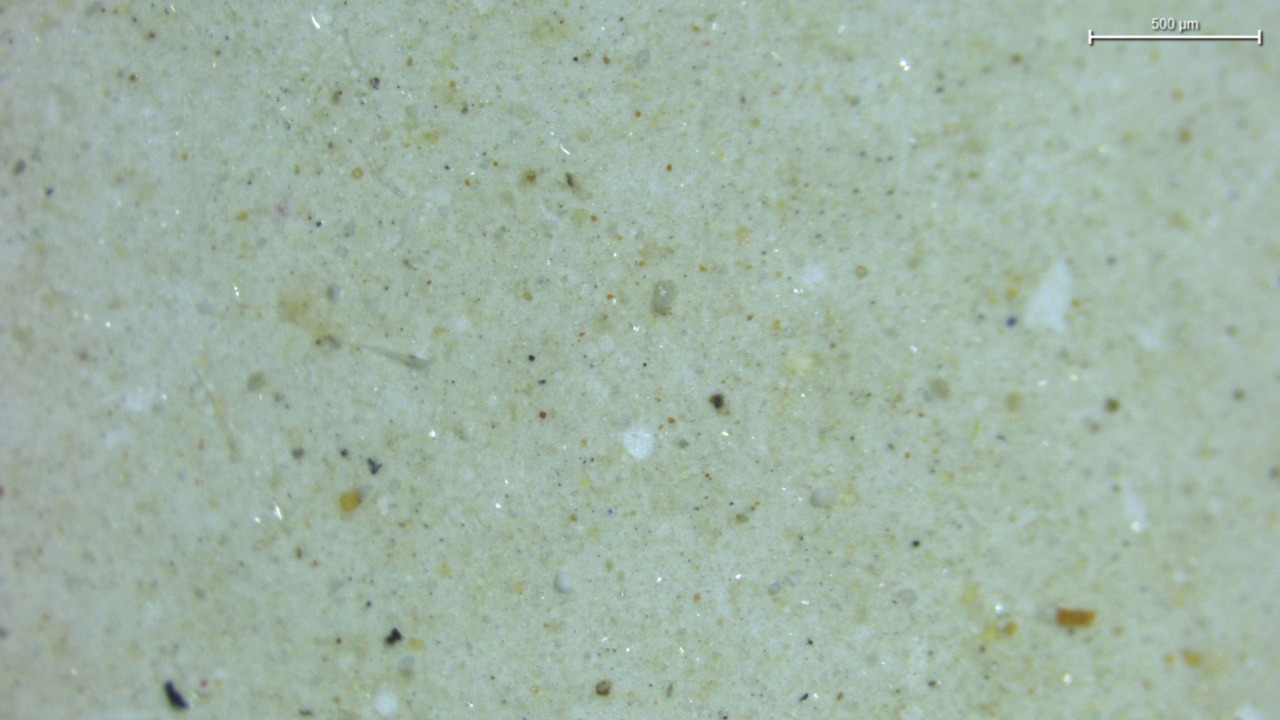microplastic_fragment: (651, 280, 677, 316), (811, 489, 835, 507), (554, 572, 573, 593)
